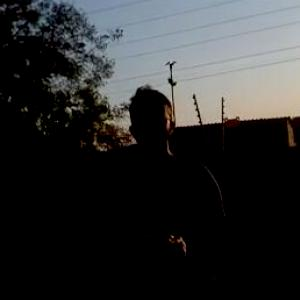follow: (102, 79, 235, 299)
